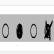correct: (15, 22, 24, 41)
no answer: (30, 22, 38, 40), (2, 22, 9, 40)
not correct: (44, 18, 54, 42)
